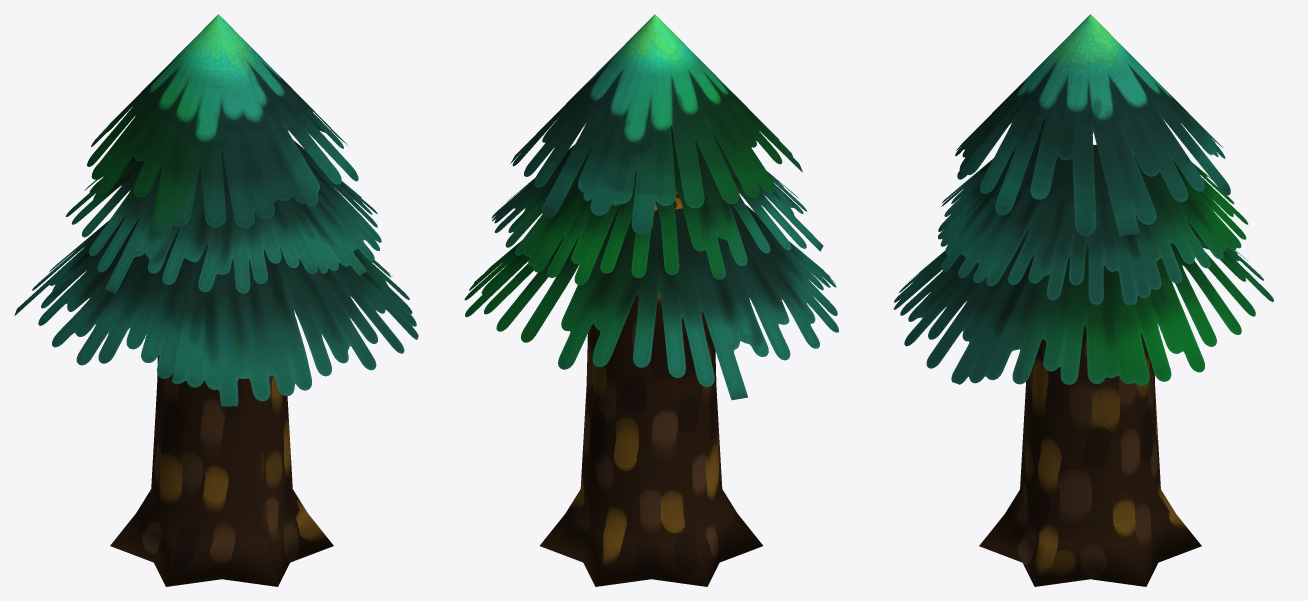
Rendered from صنوبر_متوسط.glb.
The picture shows the model from 3 angles, left to right: view 1: azimuth 30°, elevation 25°; view 2: azimuth 150°, elevation 25°; view 3: azimuth 270°, elevation 25°; orthographic projection.
Parts seen in each view (by area): view 1: Root; view 2: Root; view 3: Root.
Boxes of the visible parts, x1,y1,x2,y2 form: Root: (14, 14, 418, 586); Root: (464, 14, 838, 586); Root: (893, 14, 1273, 586).
Bounding box in the file's own units: 5.77 × 8.3 × 5.77.
1 material, 1 textured.
